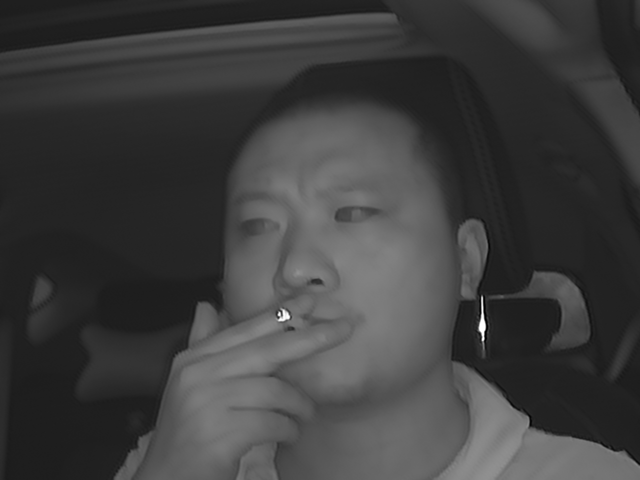hand: (199, 292, 347, 447)
